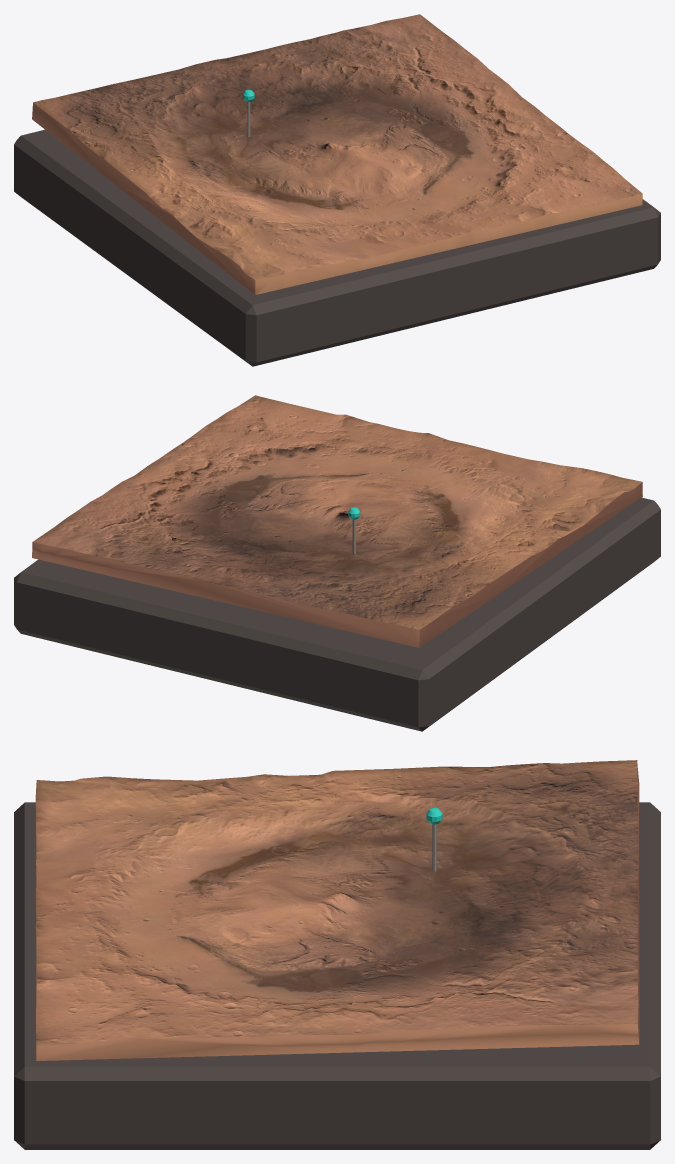
File: prop_gale_map.glb
3 views of the same model, one above another, from view 1: azimuth 30°, elevation 25°; view 2: azimuth 150°, elevation 25°; view 3: azimuth 270°, elevation 25° (orthographic). The views are drawn at different scales.
Visible parts, largest first — view 1: gale_map, plinth; view 2: gale_map, plinth; view 3: gale_map, plinth.
Part boxes in pixels (box(x1,y1,x2,y2)): gale_map: box(32, 14, 642, 294); plinth: box(14, 129, 660, 366); gale_map: box(32, 395, 642, 647); plinth: box(14, 497, 660, 731); gale_map: box(35, 760, 639, 1060); plinth: box(14, 802, 660, 1149).
Size of the model in its own units: 0.6 by 0.1787 by 0.6.
Materials: 4 (1 with a texture image).
